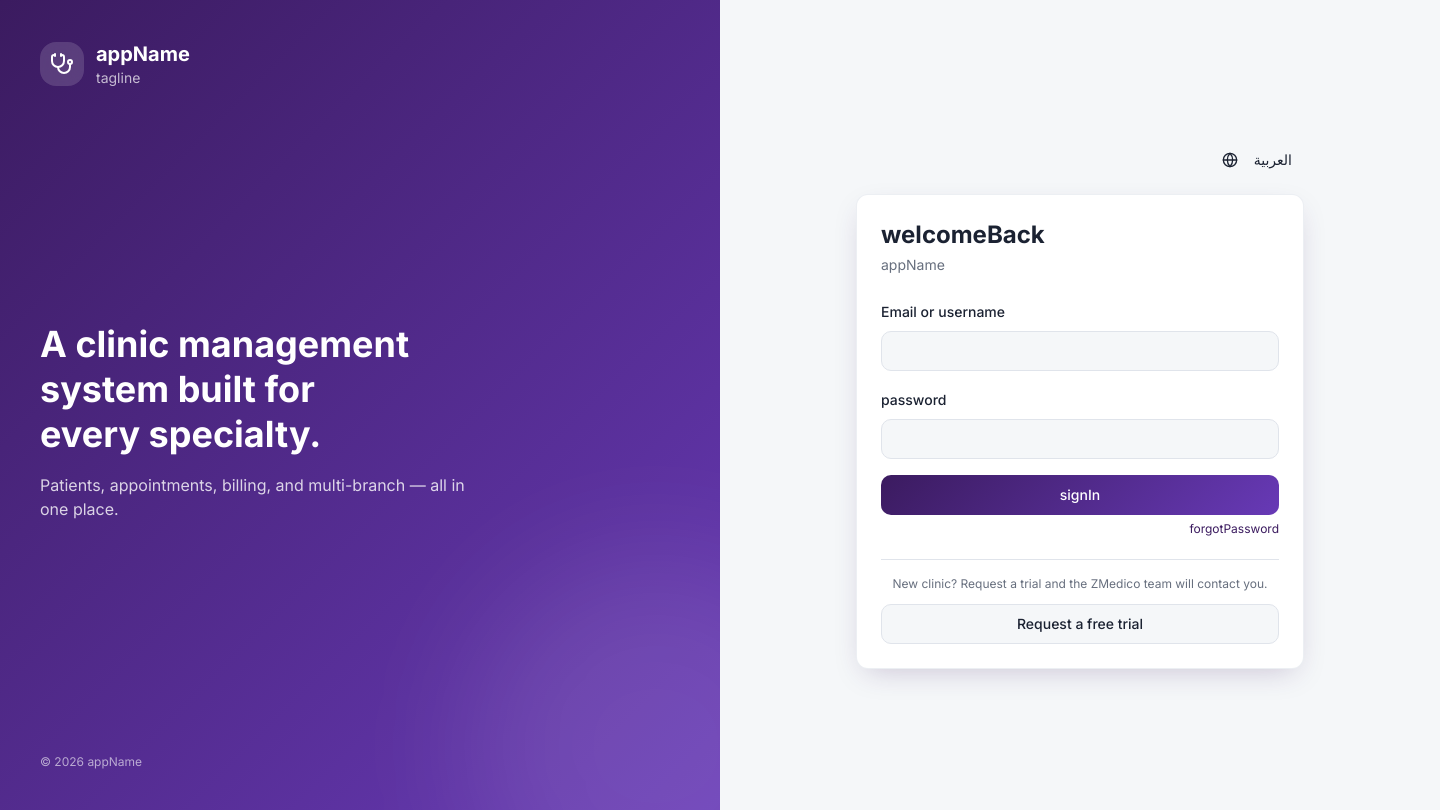
Test: staff reset request dialog › keeps pending requests open rather than allowing dialog replacement
This screenshot has width=1440, height=810.
Later steps or results of the test are not shown.
Type "synthetic@example.invalid" into the field labelled "Email or username". click: [1080, 350]
box: [881,330,1279,370]
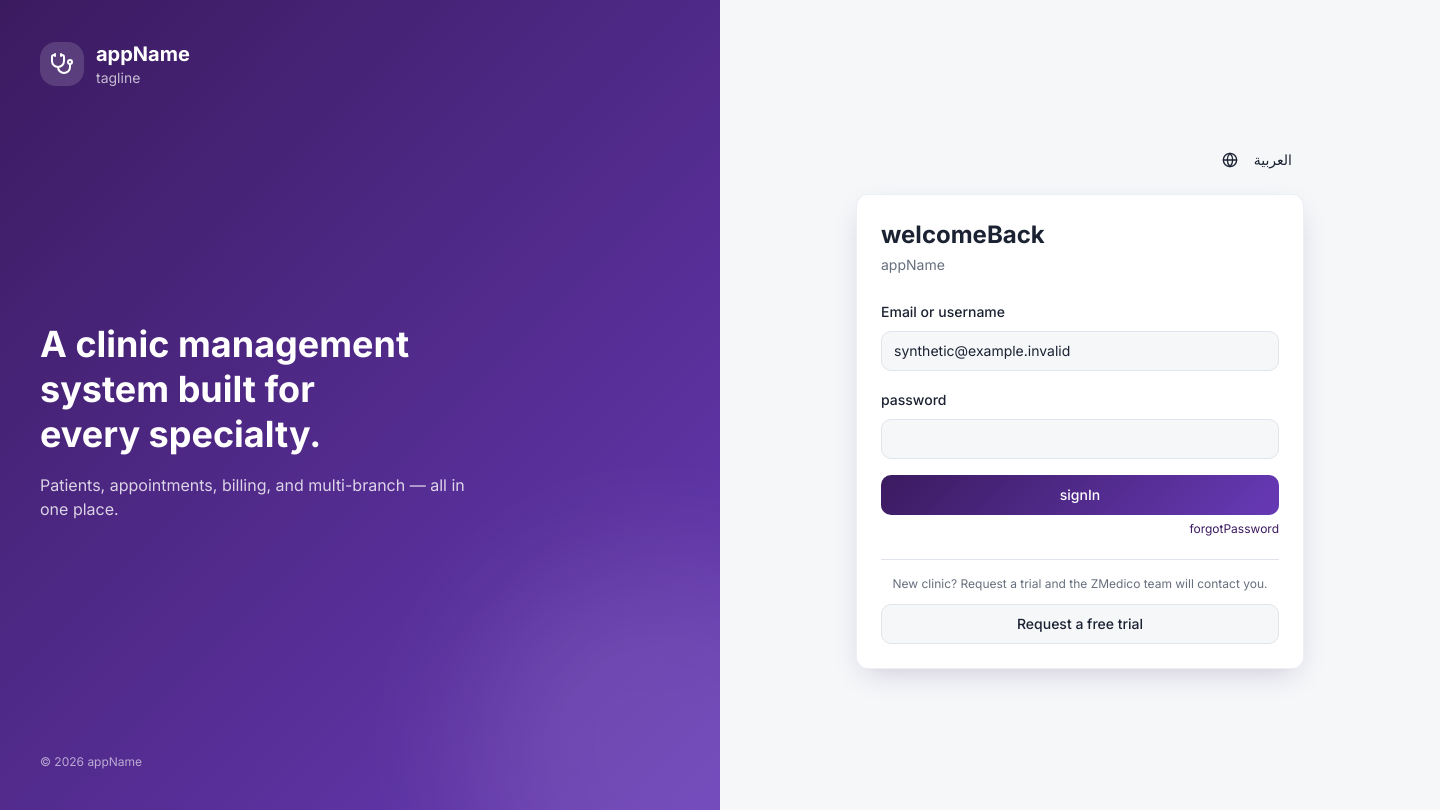
Type "synthetic-password" into the password field labelled "password". click: [1080, 438]
box: [881,418,1279,458]
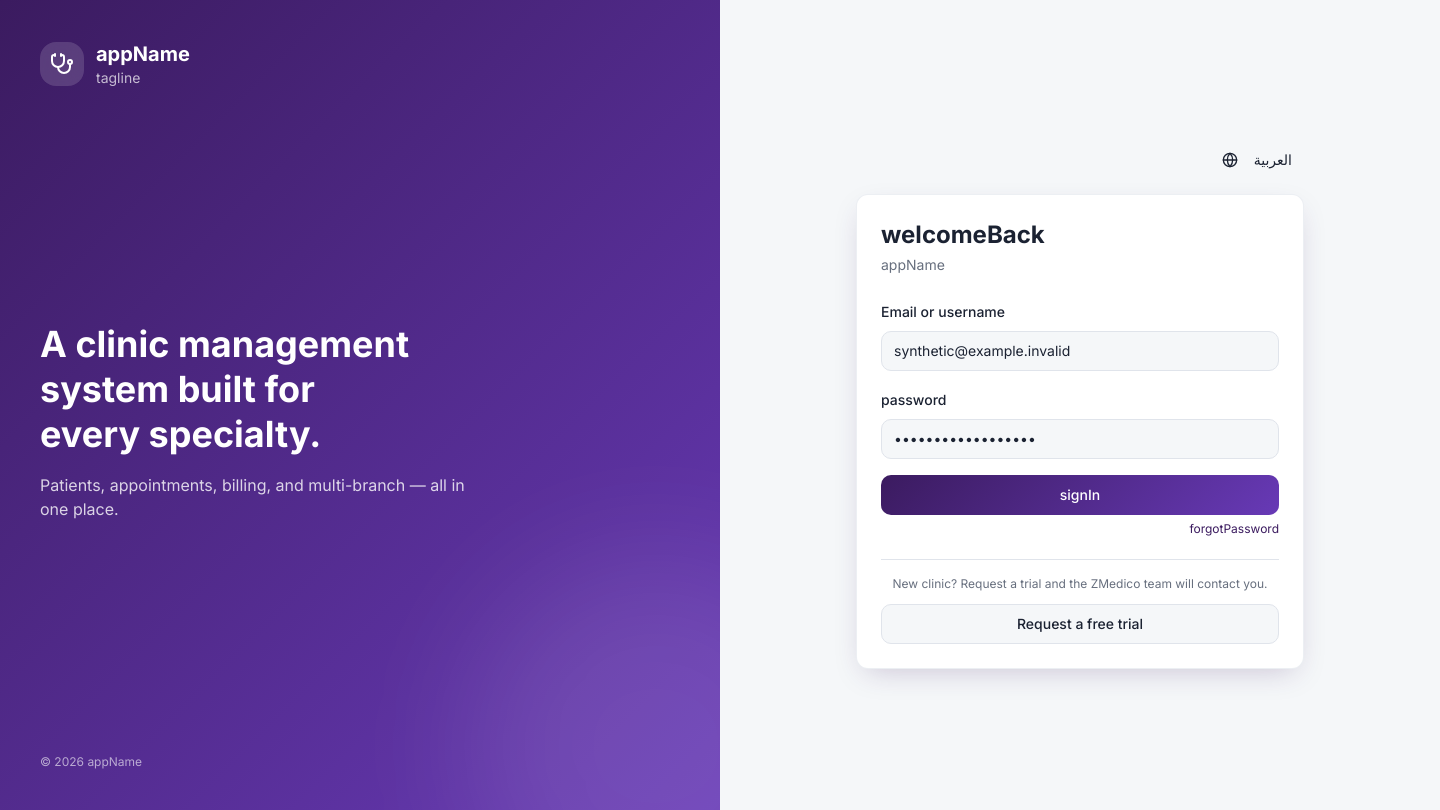
Click the button "forgotPassword". click: [1234, 528]
box: [1189,520,1279,536]
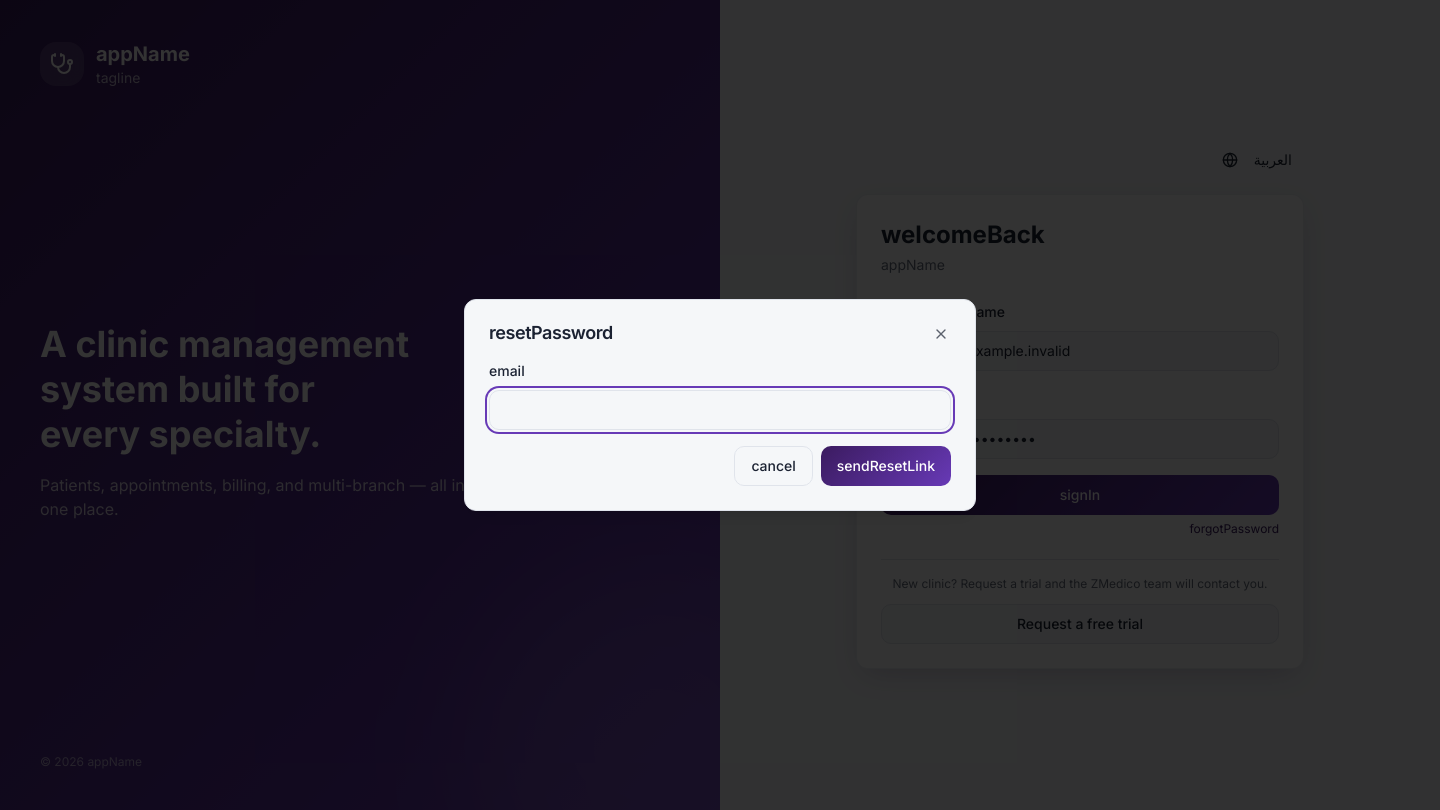
Type "recipient@example.invalid" into the field labelled "email". click: [720, 410]
box: [489,390,951,430]
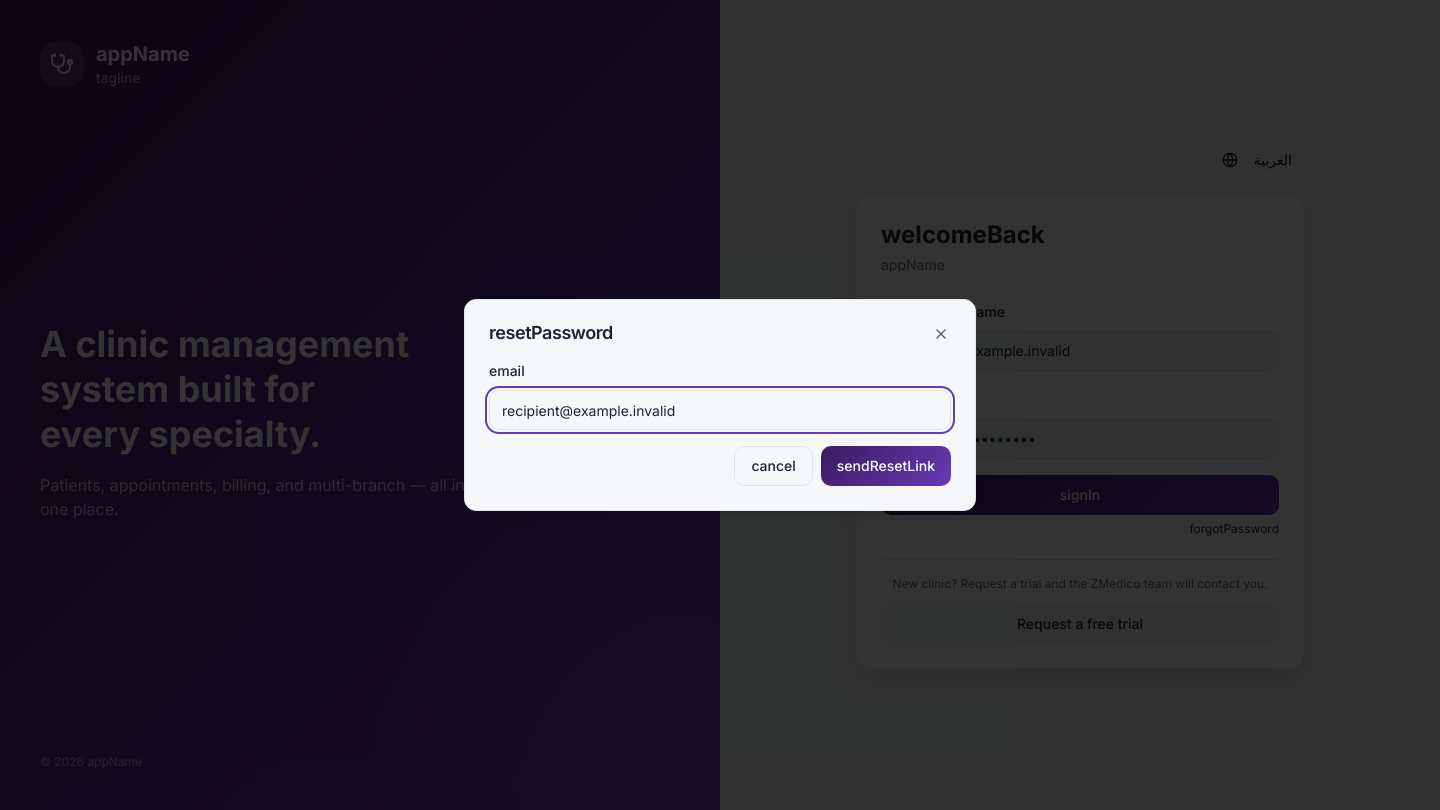
Submit the form labelled "email", box [489,358,951,486]
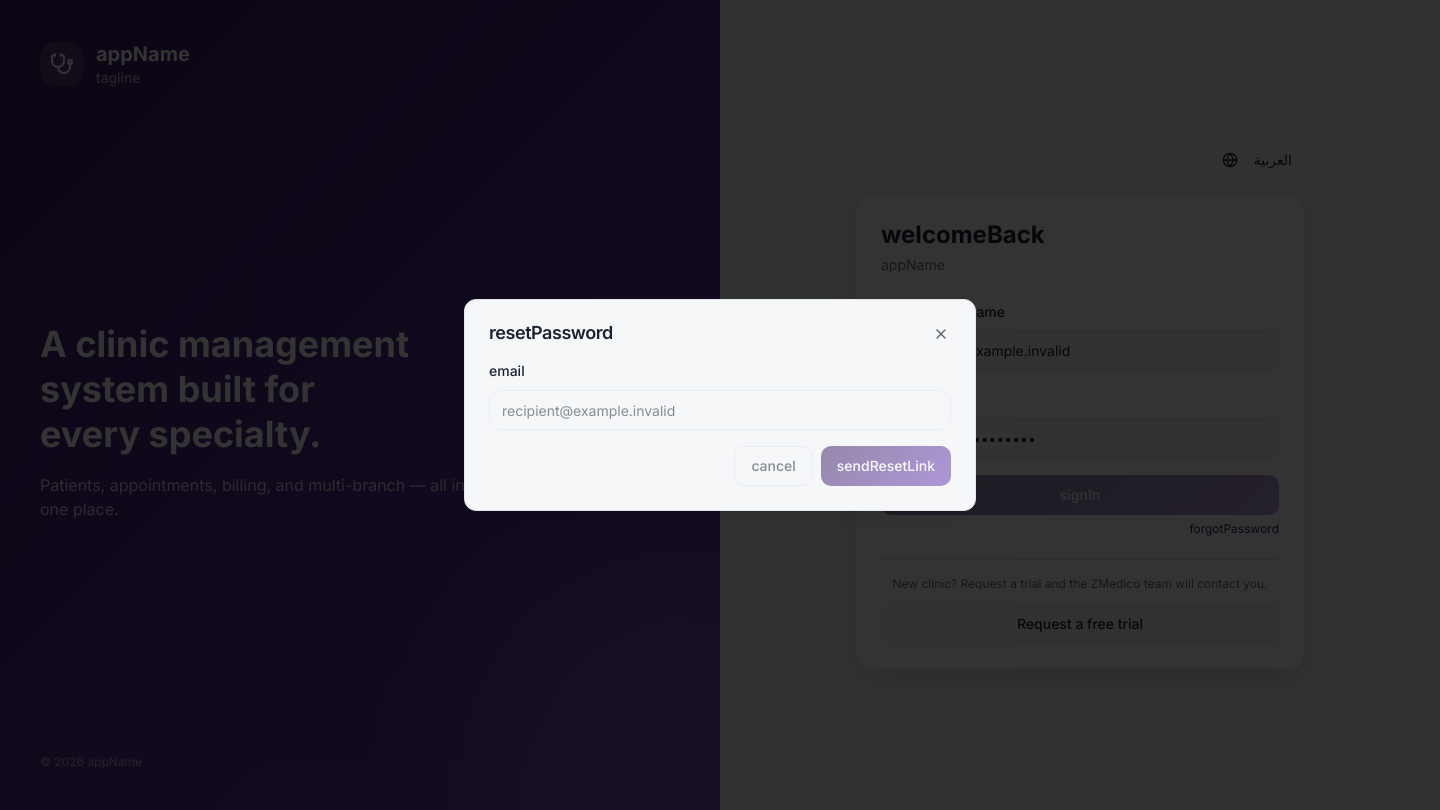
Check: the button "cancel" is disabled, box [734,446,813,486]
